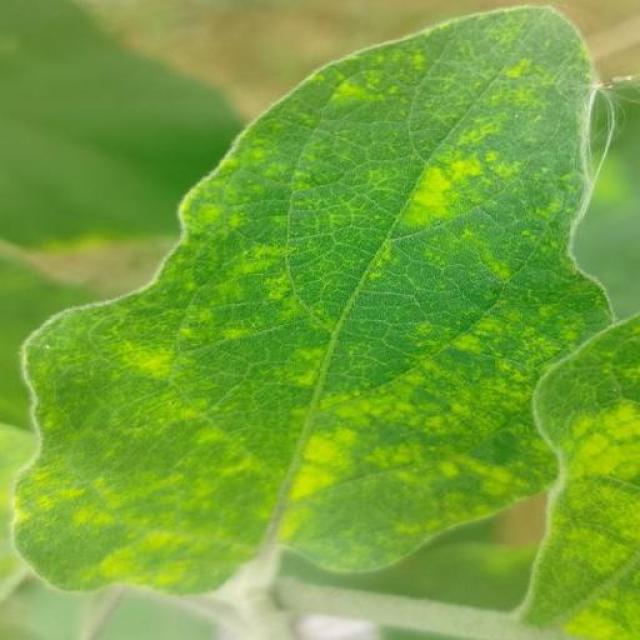leaf_spot: (302, 311, 530, 458), (207, 292, 360, 506), (102, 351, 260, 484), (468, 262, 621, 378), (529, 486, 640, 640), (565, 385, 640, 607), (295, 149, 440, 249), (28, 306, 124, 430), (225, 206, 322, 328), (79, 307, 215, 391), (365, 423, 489, 512), (312, 495, 446, 573), (111, 472, 238, 550), (67, 530, 204, 602), (28, 452, 122, 555), (140, 237, 239, 324), (379, 77, 481, 161), (486, 206, 588, 288), (430, 528, 556, 593), (399, 150, 504, 226), (199, 144, 281, 238), (415, 213, 512, 290), (429, 439, 552, 496), (524, 11, 606, 88), (245, 126, 311, 221), (293, 411, 355, 512), (302, 53, 395, 116), (431, 24, 512, 95), (174, 184, 243, 267), (587, 304, 640, 403), (29, 225, 158, 261), (0, 472, 38, 585), (502, 58, 559, 130), (524, 157, 576, 230), (264, 490, 324, 550), (584, 147, 635, 212), (356, 231, 406, 288), (458, 114, 518, 158), (482, 10, 536, 57), (385, 35, 436, 84), (281, 342, 324, 400), (489, 139, 529, 188), (1, 598, 30, 640)
